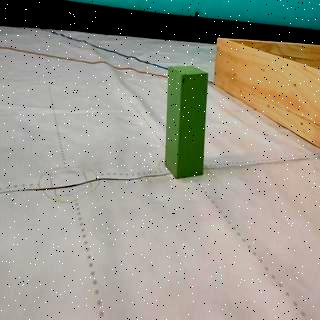greenbox: (166, 64, 208, 179)
